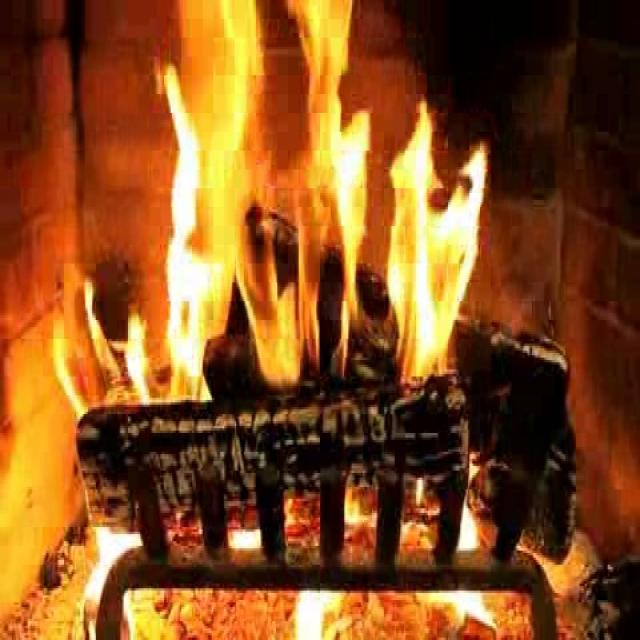fire: (137, 4, 468, 402)
